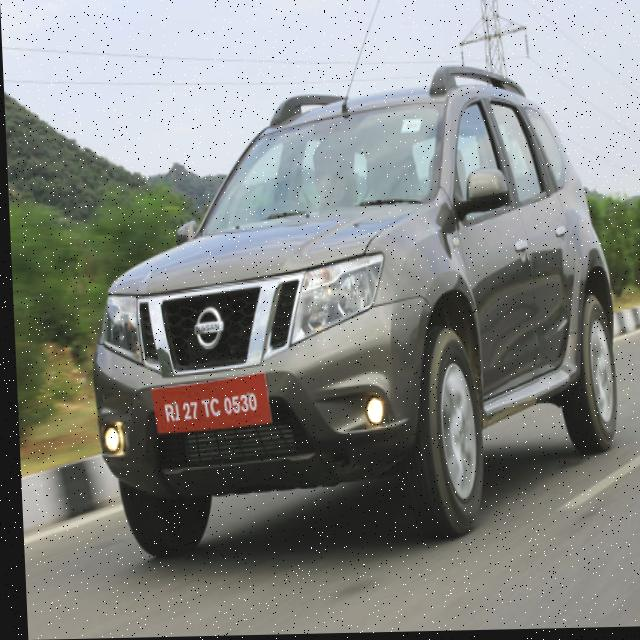plate: (147, 374, 268, 437)
